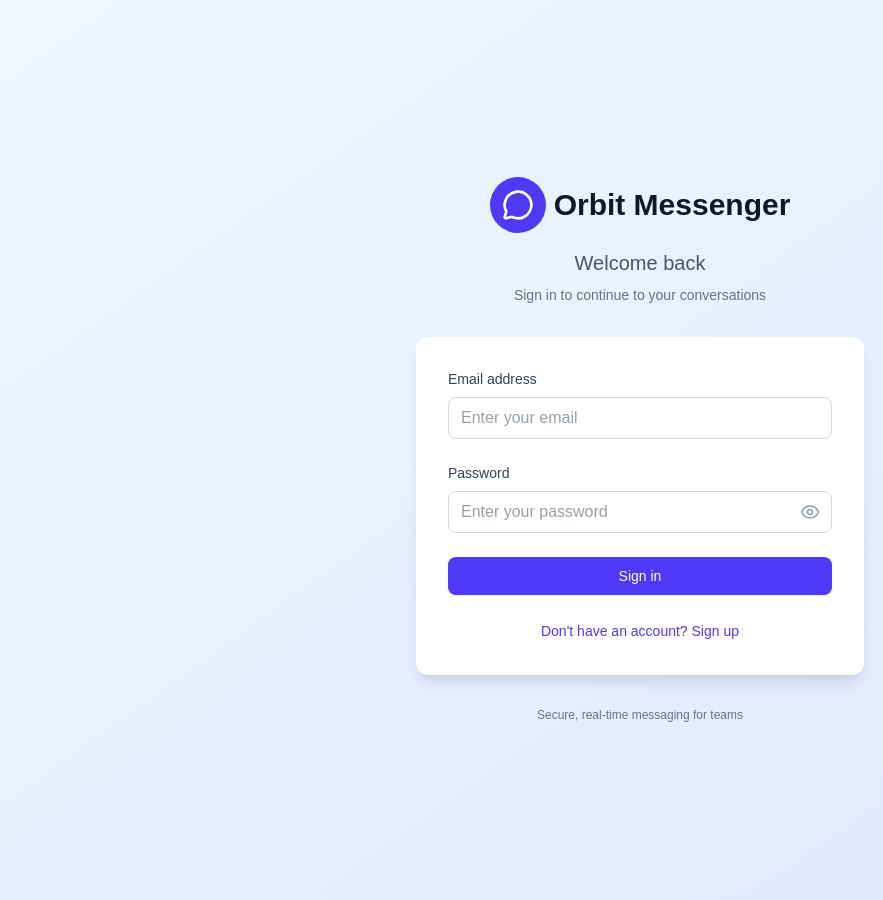
Test: Login Page (/login) › toggles between login and register modes
Expected: the heading "Welcome back" is shown, left=575, top=252, right=705, bottom=274
Note: Click "Sign up" link
What coordinates should you click on to do the following:
click the button "Don't have an account? Sign up"
I would click on:
 (640, 631)
Its box is left=541, top=621, right=739, bottom=641.
(page scrolled)
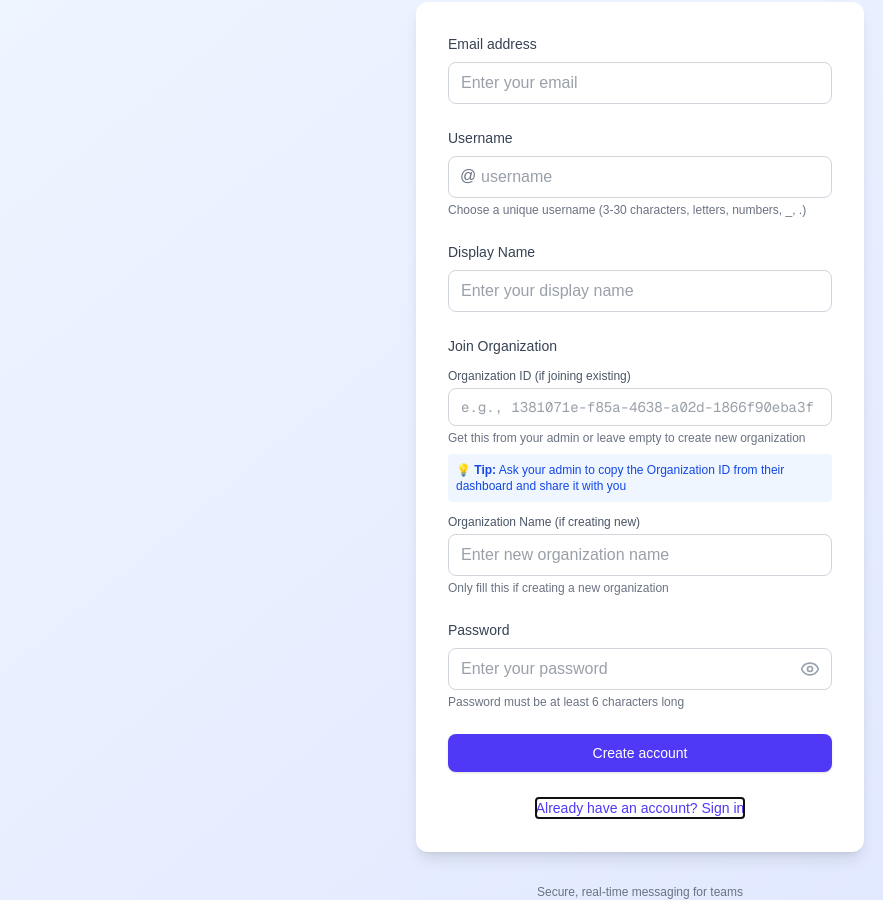
Now the field labelled "Username" is shown, box left=448, top=156, right=832, bottom=198
Now the field labelled "Display Name" is shown, box left=448, top=270, right=832, bottom=312
Now the button "Create account" is shown, box left=448, top=734, right=832, bottom=772
